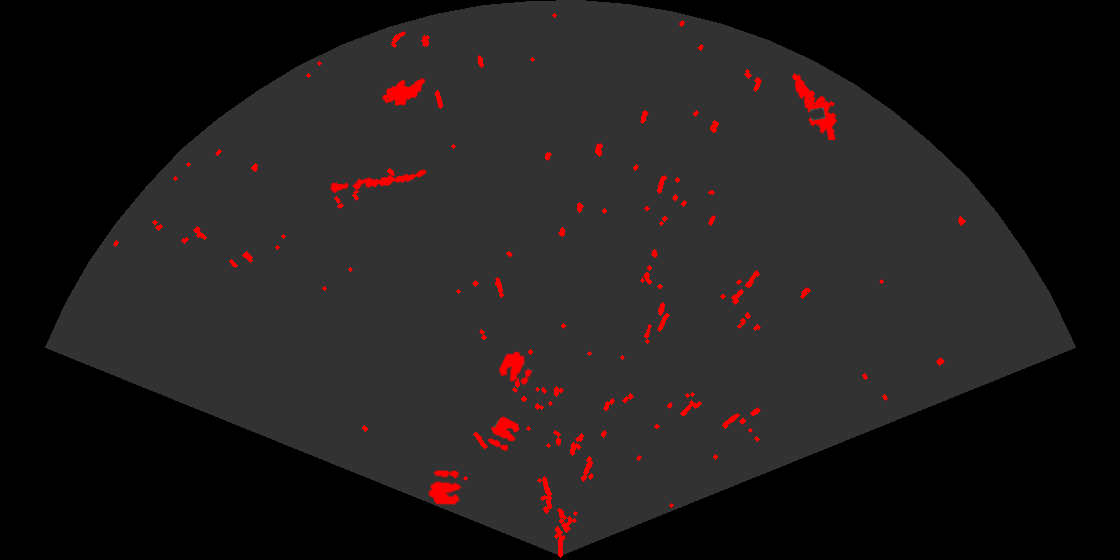AUV: (381, 77, 427, 107)
ball: (497, 350, 534, 387), (427, 469, 463, 506), (487, 415, 521, 452)
chain: (328, 168, 428, 195)
frogman: (791, 72, 838, 140)
